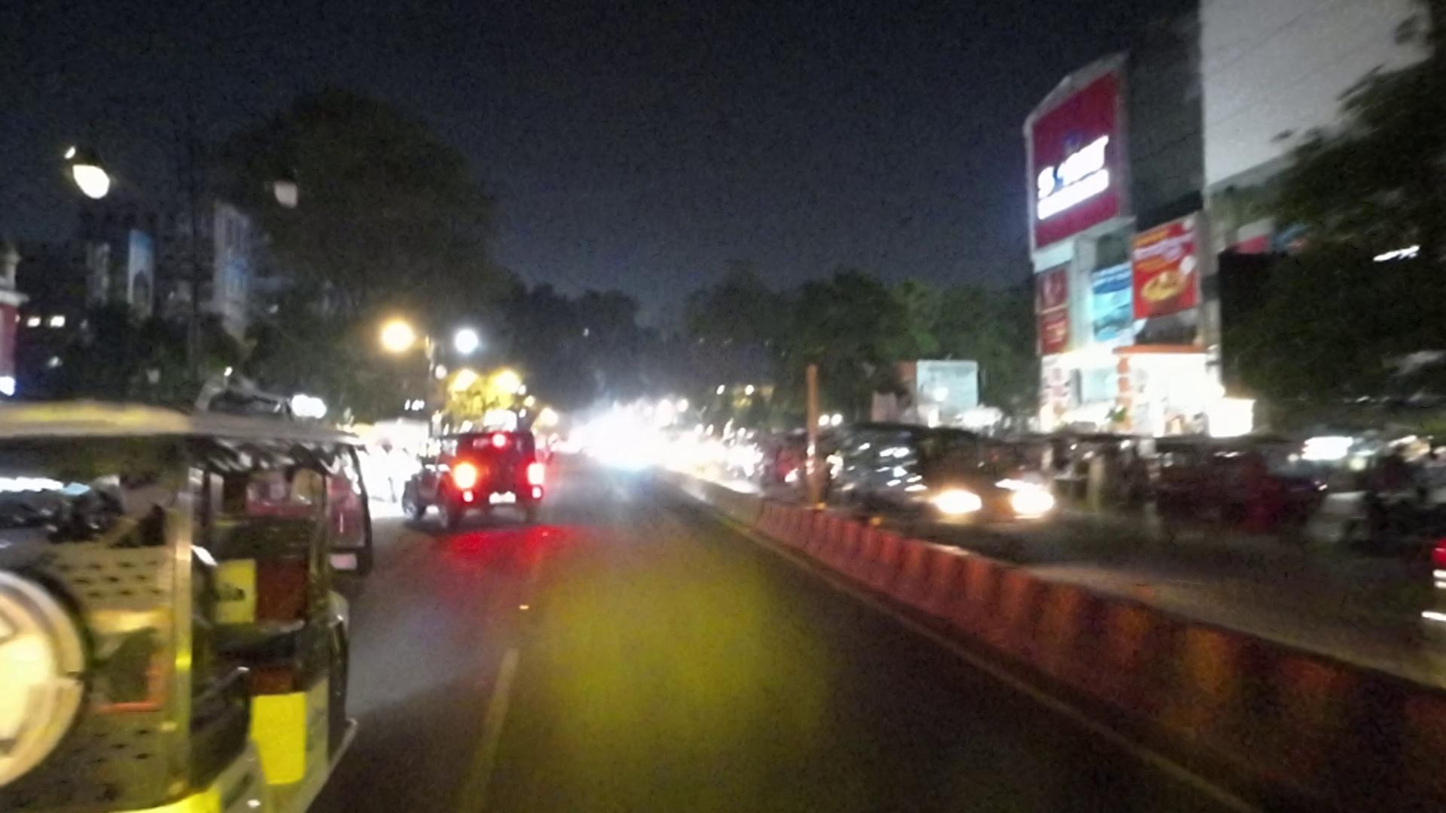streetlight: (252, 140, 330, 220)
